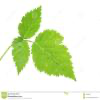Strawberry leaf: (30, 29, 79, 82), (18, 5, 43, 41), (12, 35, 32, 77)
